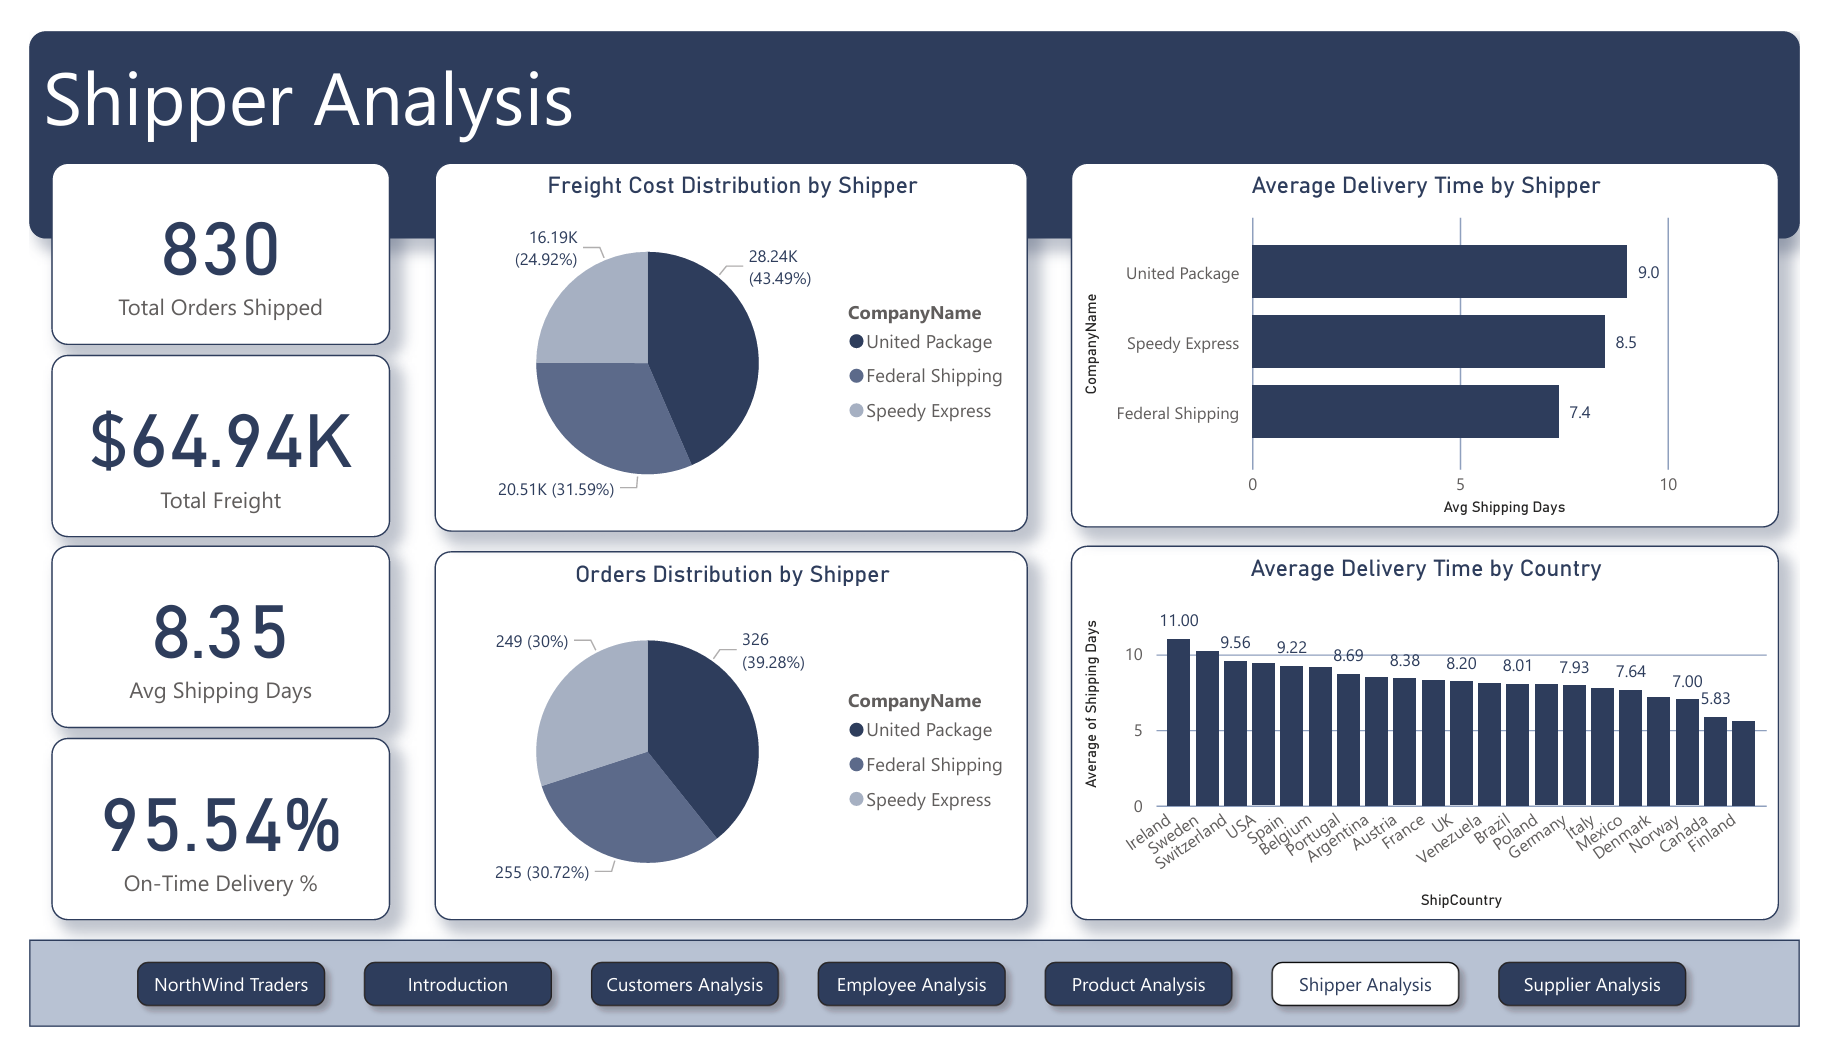

What the dashboard file says about the page in this screenshot:
{"tool":"powerbi","page":{"name":"Shipper Analysis","canvas":[1280,720],"ordinal":5},"visuals":[{"type":"textbox","box":[0,0,1280,150],"z":0},{"type":"textbox","box":[0,657,1280,63],"z":0,"group":"g1"},{"type":"group","id":"g1","title":"Group 1","box":[0,657,1280,63],"z":1000},{"type":"columnChart","title":"Average Delivery Time by Country","fields":{"Y":["Avg(orders.Shipping Days)"],"Category":["orders.ShipCountry"]},"box":[753,372,512,271],"z":2000},{"type":"pieChart","title":"Orders Distribution by Shipper","fields":{"Category":["shippers.CompanyName"],"Y":["shippers.Total Orders Shipped"]},"box":[293,376,429,267],"z":5000},{"type":"pageNavigator","box":[69,664,1141,50],"z":5501,"group":"g1"},{"type":"barChart","title":"Average Delivery Time by Shipper","fields":{"Category":["shippers.CompanyName"],"Y":["shippers.Avg Shipping Days"]},"box":[753,95,512,264],"z":6000},{"type":"pieChart","title":"Freight Cost Distribution by Shipper","fields":{"Category":["shippers.CompanyName"],"Y":["shippers.Total Freight"]},"box":[293,95,429,267],"z":7000},{"type":"card","fields":{"Values":["shippers.Total Orders Shipped"]},"box":[16,95,245,132],"z":9500},{"type":"card","fields":{"Values":["shippers.Total Freight"]},"box":[16,233.7,245,132],"z":10000},{"type":"card","fields":{"Values":["shippers.Avg Shipping Days"]},"box":[16,372.3,245,132],"z":11000},{"type":"card","fields":{"Values":["shippers.On Time Delivery %"]},"box":[16,511,245,132],"z":11500}]}

Visuals, with their boxes in screenshot pixels (x1, y1, x2, y2), scaled from the page's 1280x720 canvas onto the 1834x1057 screenshot:
textbox: region(0, 0, 1833, 220)
textbox: region(0, 965, 1833, 1056)
"Group 1" group: region(0, 965, 1833, 1056)
"Average Delivery Time by Country" columnChart: region(1079, 546, 1813, 944)
"Orders Distribution by Shipper" pieChart: region(420, 552, 1034, 944)
pageNavigator: region(99, 975, 1734, 1048)
"Average Delivery Time by Shipper" barChart: region(1079, 139, 1813, 527)
"Freight Cost Distribution by Shipper" pieChart: region(420, 139, 1034, 531)
card - shippers.Total Orders Shipped: region(23, 139, 374, 333)
card - shippers.Total Freight: region(23, 343, 374, 537)
card - shippers.Avg Shipping Days: region(23, 547, 374, 740)
card - shippers.On Time Delivery %: region(23, 750, 374, 944)
